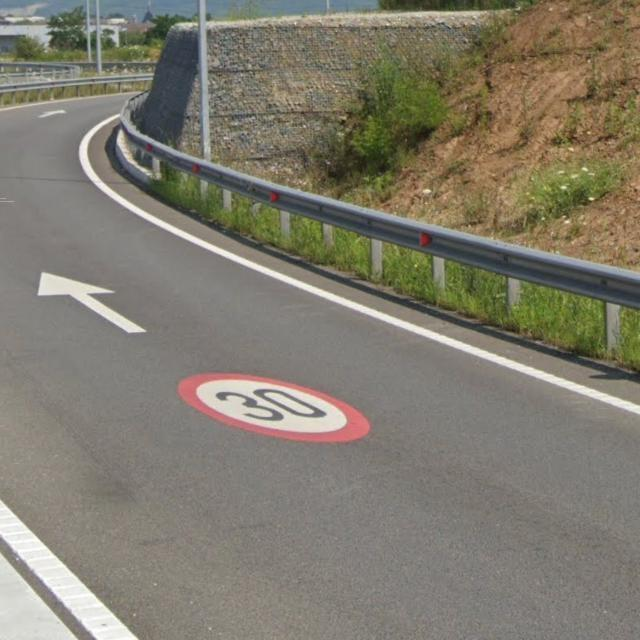forb_speed_over_30: (179, 371, 372, 443)
